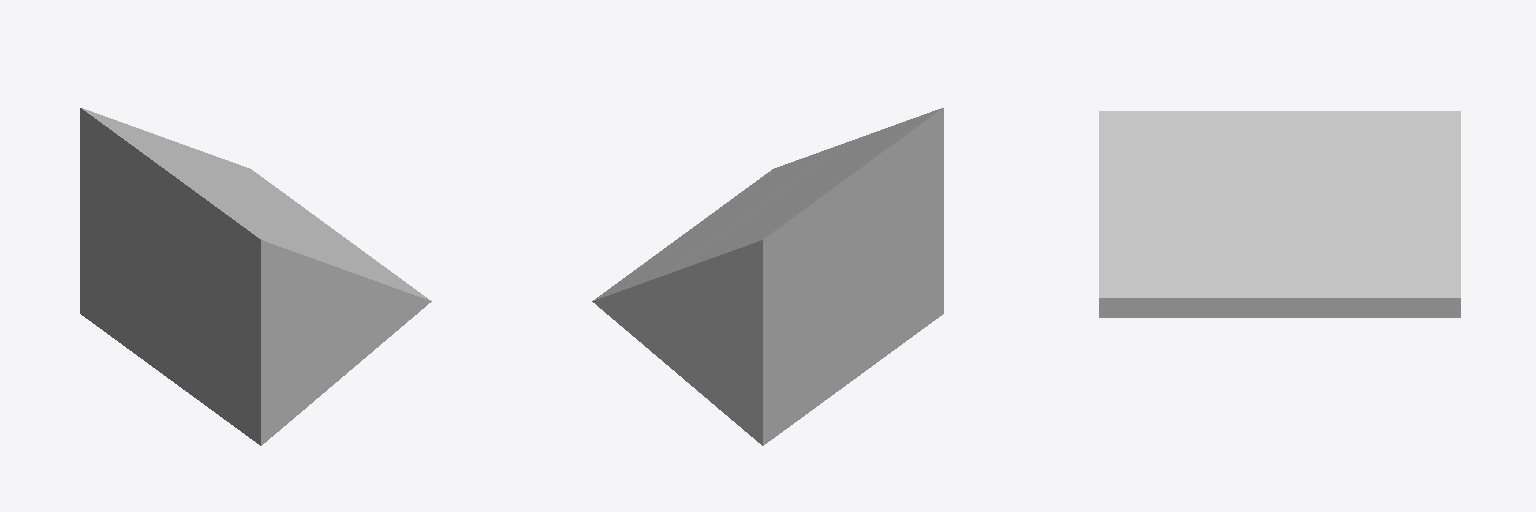
The model's file is small_triangle_peg.obj.
3 views of the same model, side by side, from view 1: azimuth 30°, elevation 25°; view 2: azimuth 150°, elevation 25°; view 3: azimuth 270°, elevation 25° (orthographic).
Size of the model in its own units: 0.0415 by 0.0479 by 0.0762.